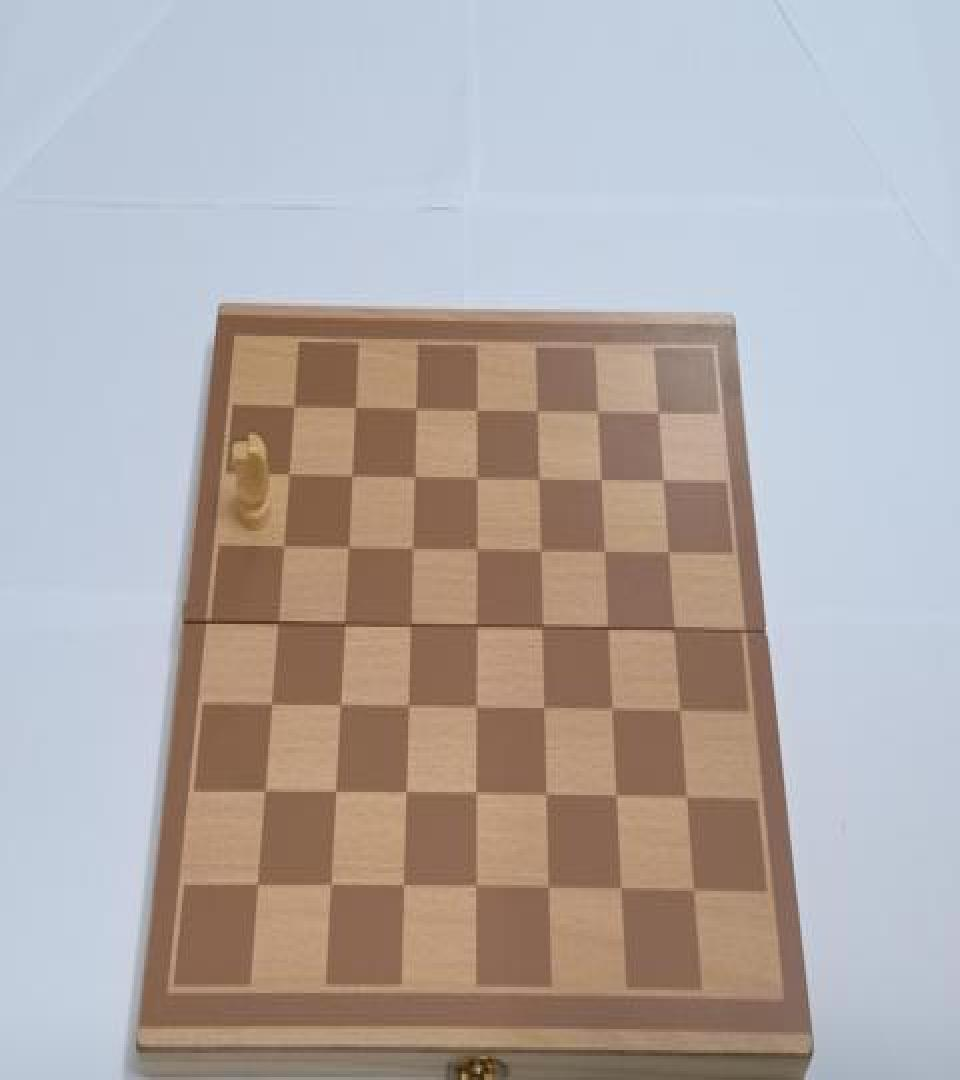xcorner: (279, 460, 297, 488), (406, 394, 424, 422), (399, 694, 417, 722), (467, 394, 485, 422), (593, 466, 611, 494), (273, 532, 291, 559), (268, 610, 286, 637), (255, 780, 273, 807), (248, 873, 266, 900), (345, 393, 363, 420), (342, 462, 360, 489), (338, 534, 356, 561), (334, 612, 352, 639), (330, 693, 348, 720), (326, 780, 344, 807), (321, 874, 339, 901), (405, 462, 423, 489), (401, 612, 419, 639), (395, 874, 413, 901), (468, 537, 486, 564), (468, 696, 486, 723), (468, 783, 486, 810), (468, 876, 486, 903), (528, 396, 546, 423), (530, 465, 548, 492), (532, 538, 550, 565), (534, 615, 552, 642), (539, 785, 557, 812), (589, 397, 607, 424), (597, 540, 615, 567), (601, 617, 619, 644), (605, 699, 623, 726), (610, 786, 628, 813), (615, 879, 633, 906), (650, 399, 668, 426), (656, 468, 674, 495), (661, 540, 679, 567), (667, 618, 685, 645), (674, 700, 692, 727), (688, 880, 706, 907), (284, 392, 302, 418), (261, 692, 279, 718), (403, 536, 421, 562), (397, 782, 415, 808), (467, 464, 485, 490), (468, 614, 486, 640), (536, 698, 554, 724), (541, 878, 559, 904), (680, 788, 698, 814)
